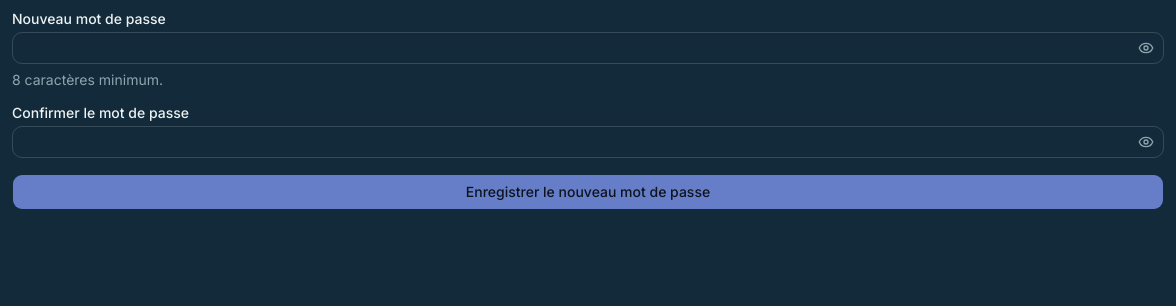
Scenario: ResetPasswordForm › propose de redemander un lien quand le jeton est refuse
Type "nouveau-mot-de-passe" into the password field labelled "Nouveau mot de passe" at (588, 48), box [12, 32, 1164, 64]
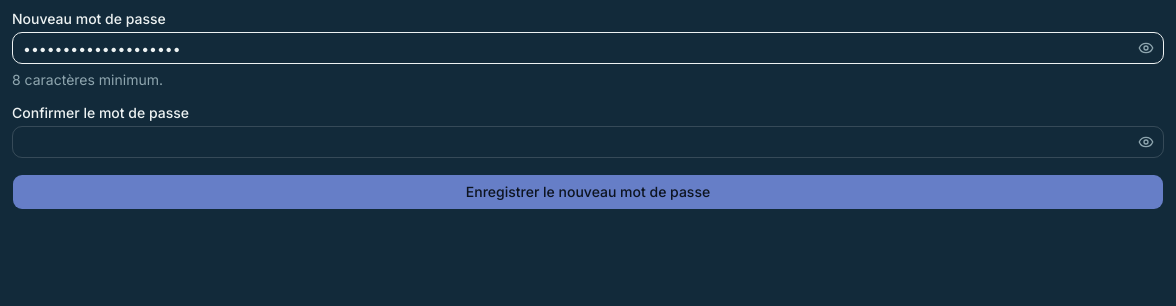
Click the button "Enregistrer le nouveau mot de passe" at (588, 192), box [12, 174, 1164, 210]
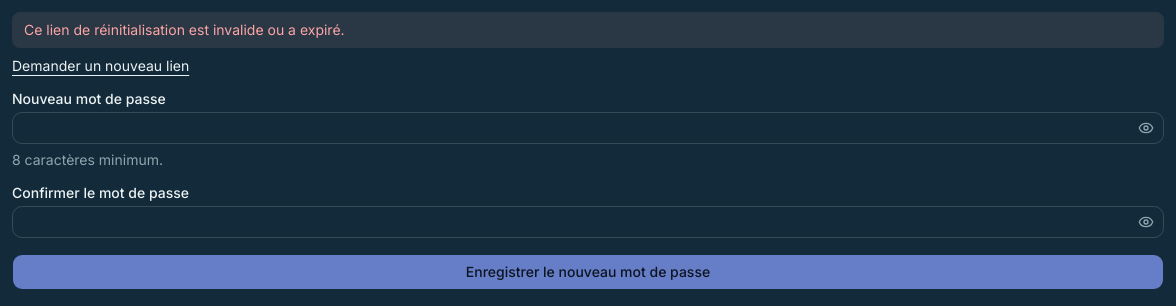
expect the message shows "invalide ou a expiré": met, box [24, 21, 345, 38]
